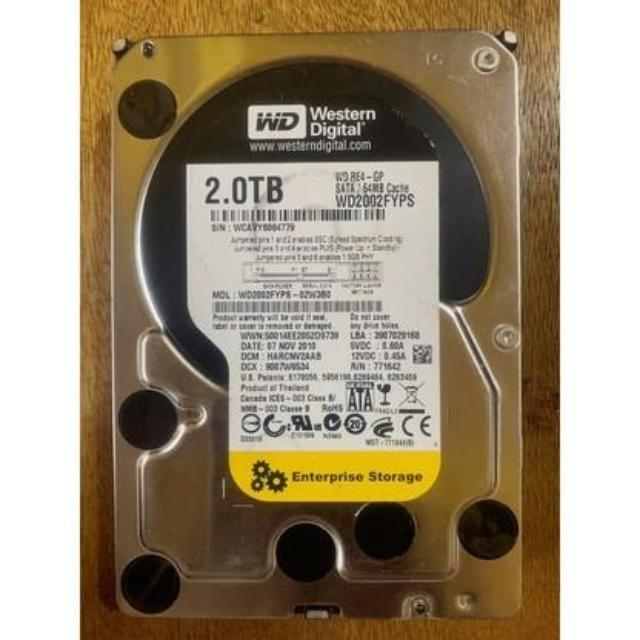DISK: (109, 29, 520, 623)
